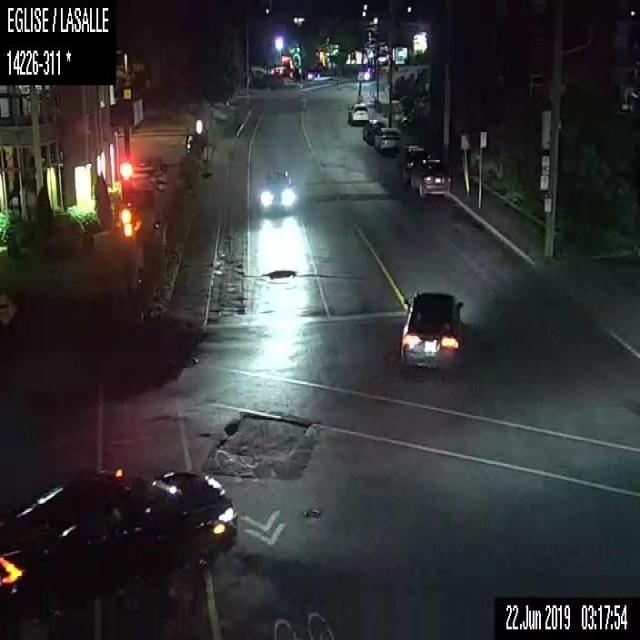vehicle: (0, 464, 244, 627), (398, 287, 464, 372), (410, 159, 450, 199), (259, 169, 294, 211), (398, 144, 428, 182), (373, 125, 401, 152), (362, 119, 384, 144), (347, 100, 369, 124)
